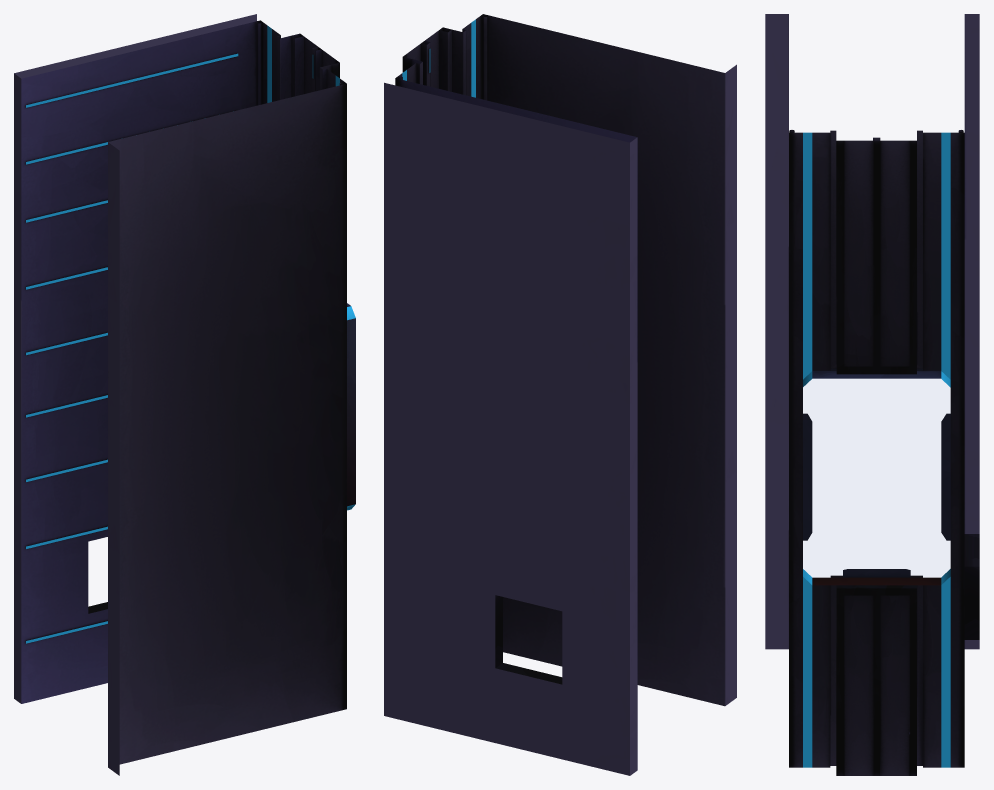
Rendered from elevatorwall_bottom.fbx.
3 renders of one model, left to right at view 1: azimuth 30°, elevation 25°; view 2: azimuth 150°, elevation 25°; view 3: azimuth 270°, elevation 25°, orthographic.
Parts seen in each view (by area): view 1: elevatorwall_bottom; view 2: elevatorwall_bottom; view 3: elevatorwall_bottom.
Part boxes in pixels (x1=…): elevatorwall_bottom: x1=14, y1=14, x2=355, y2=775; elevatorwall_bottom: x1=384, y1=14, x2=736, y2=775; elevatorwall_bottom: x1=765, y1=14, x2=979, y2=775.
Bounding box in the file's own units: 9.12 × 21.33 × 6.52.
Materials: 3 (2 with a texture image).
